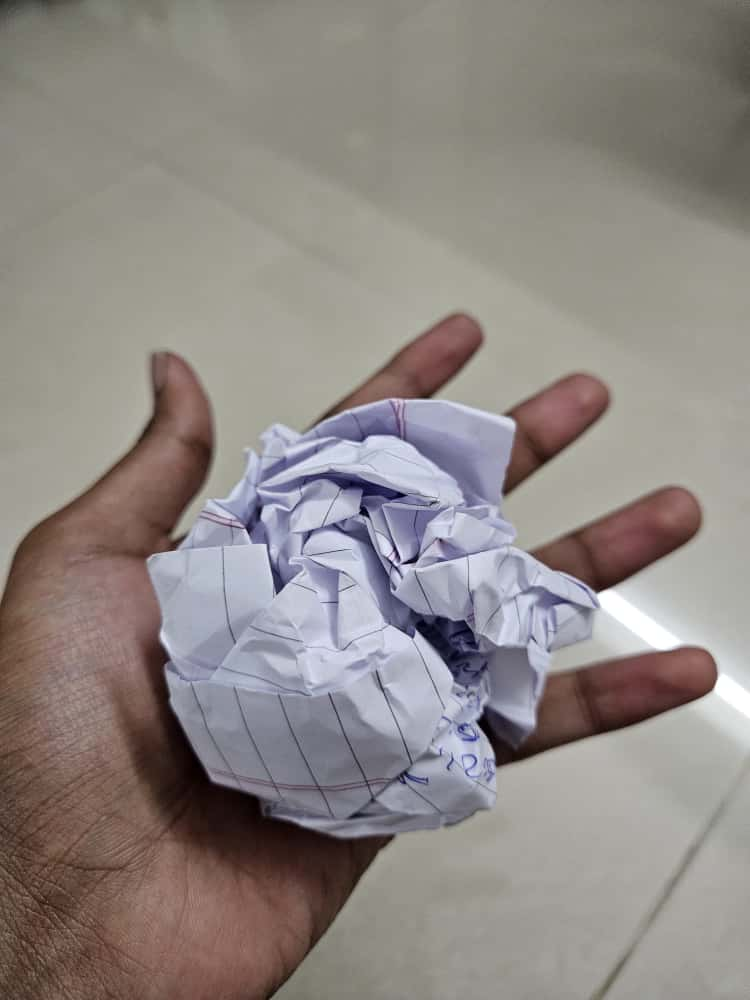dry: (161, 370, 596, 837)
